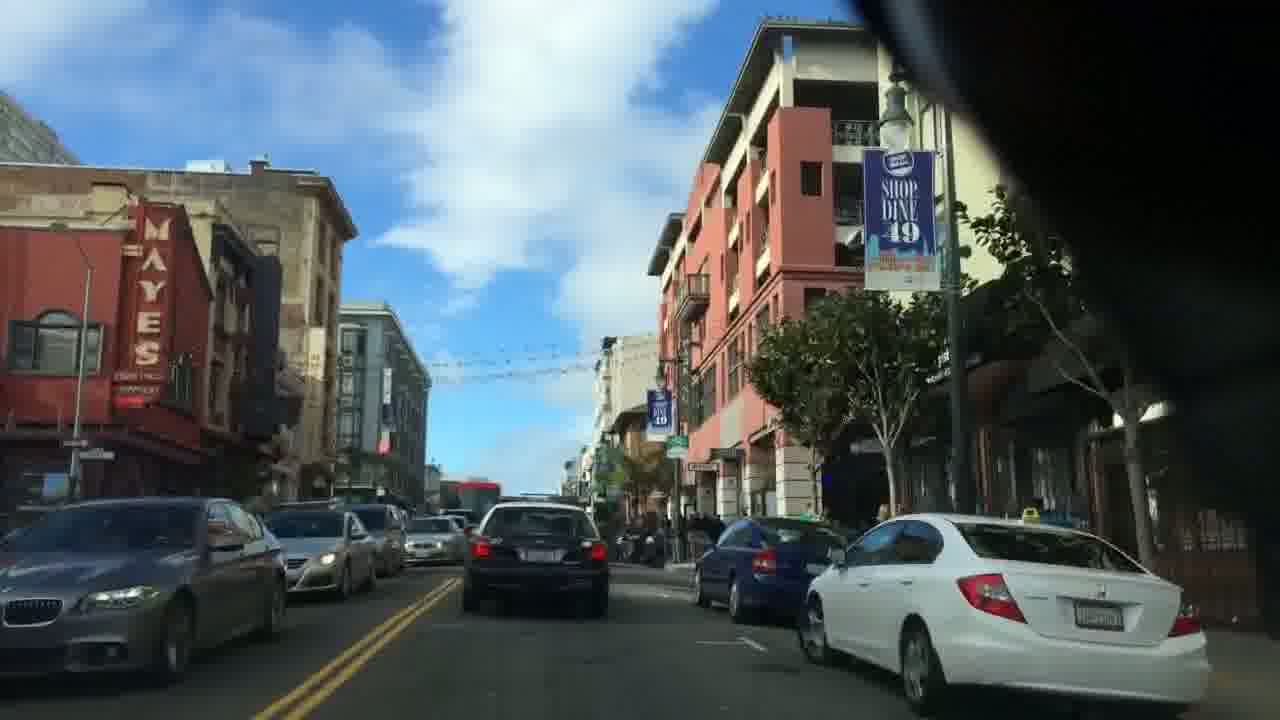car: (795, 510, 1212, 718), (0, 494, 289, 689), (459, 499, 609, 618), (693, 517, 852, 624), (262, 509, 376, 600), (398, 514, 464, 566)
